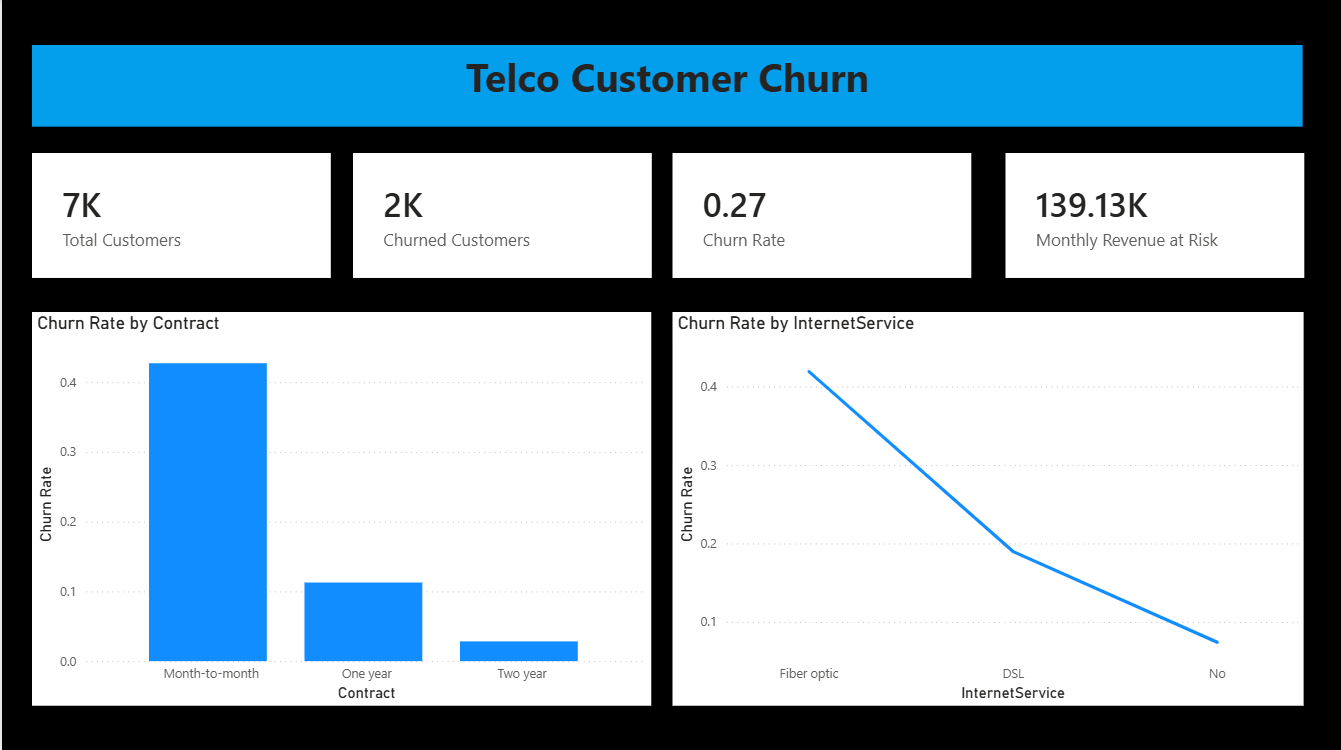

The page's visual inventory and layout, read from the dashboard file:
{"tool":"powerbi","page":{"name":"Page 1","canvas":[1280,720],"ordinal":0},"visuals":[{"type":"cardVisual","fields":{"Data":["Telco-Customer-Churn.Total Customers"]},"box":[28.3,145.5,285.4,119.1],"z":0},{"type":"cardVisual","fields":{"Data":["Telco-Customer-Churn.Churned Customers"]},"box":[334.5,145.5,285.4,119.1],"z":1},{"type":"cardVisual","fields":{"Data":["Telco-Customer-Churn.Churn Rate"]},"box":[640.6,145.5,285.4,119.1],"z":2},{"type":"cardVisual","fields":{"Data":["Telco-Customer-Churn.Monthly Revenue at Risk"]},"box":[958.1,145.5,285.4,119.1],"z":3},{"type":"clusteredColumnChart","fields":{"Category":["Telco-Customer-Churn.Contract"],"Y":["Telco-Customer-Churn.Churn Rate"]},"box":[28.3,298.6,591.5,376.1],"z":4},{"type":"textbox","box":[28.6,42.9,1213.6,77.9],"z":6},{"type":"lineChart","fields":{"Y":["Telco-Customer-Churn.Churn Rate"],"Category":["Telco-Customer-Churn.InternetService"]},"box":[640.6,298.6,602.8,376.1],"z":7}]}

Visuals, with their boxes in screenshot pixels (x1, y1, x2, y2), scaled from the page's 1280x720 canvas onto the 1341x750 screenshot:
cardVisual - Telco-Customer-Churn.Total Customers: bbox=[30, 152, 329, 276]
cardVisual - Telco-Customer-Churn.Churned Customers: bbox=[350, 152, 649, 276]
cardVisual - Telco-Customer-Churn.Churn Rate: bbox=[671, 152, 970, 276]
cardVisual - Telco-Customer-Churn.Monthly Revenue at Risk: bbox=[1004, 152, 1303, 276]
clusteredColumnChart - Telco-Customer-Churn.Contract x Telco-Customer-Churn.Churn Rate: bbox=[30, 311, 649, 703]
textbox: bbox=[30, 45, 1301, 126]
lineChart - Telco-Customer-Churn.Churn Rate x Telco-Customer-Churn.InternetService: bbox=[671, 311, 1303, 703]
